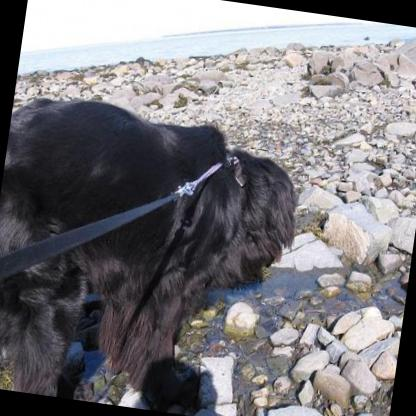Newfoundland: (0, 84, 309, 416)
